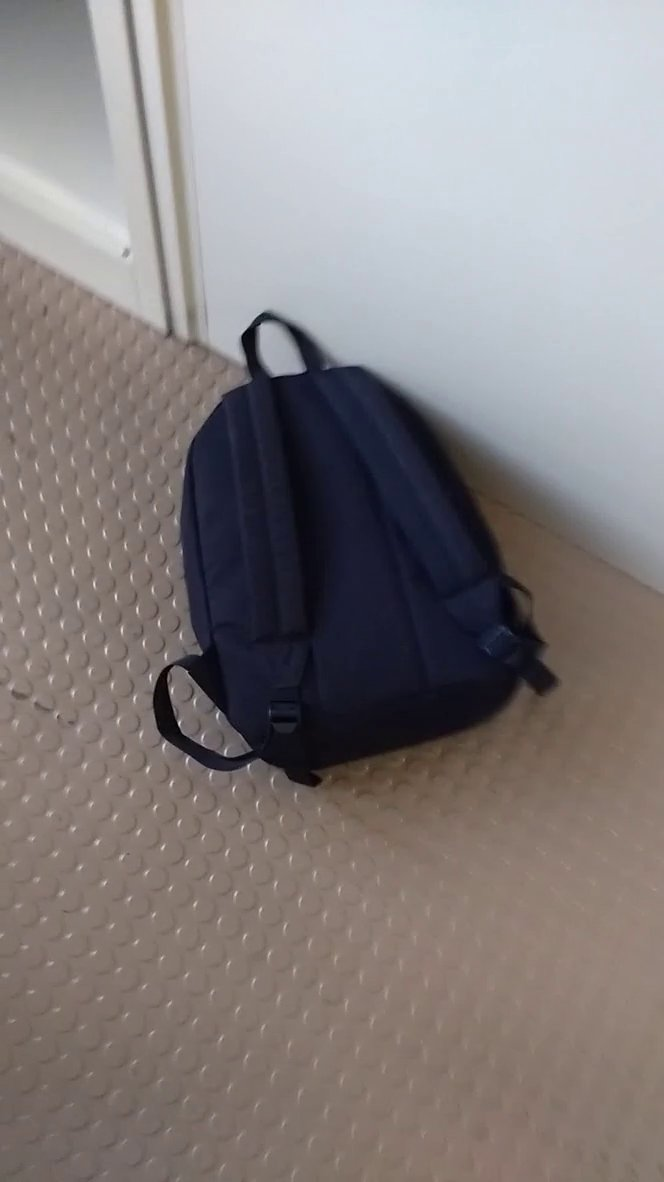bag: (143, 289, 566, 801)
